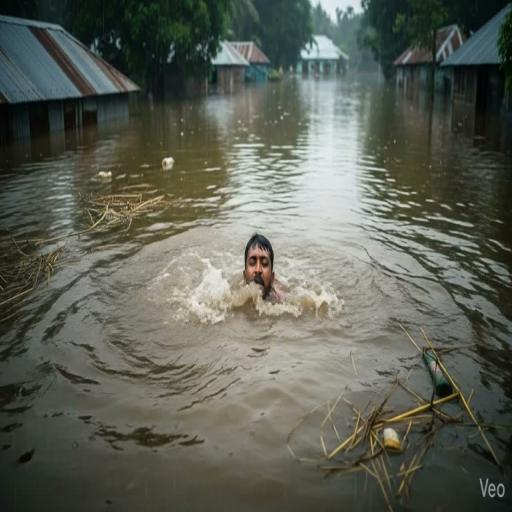human: (228, 222, 284, 303)
